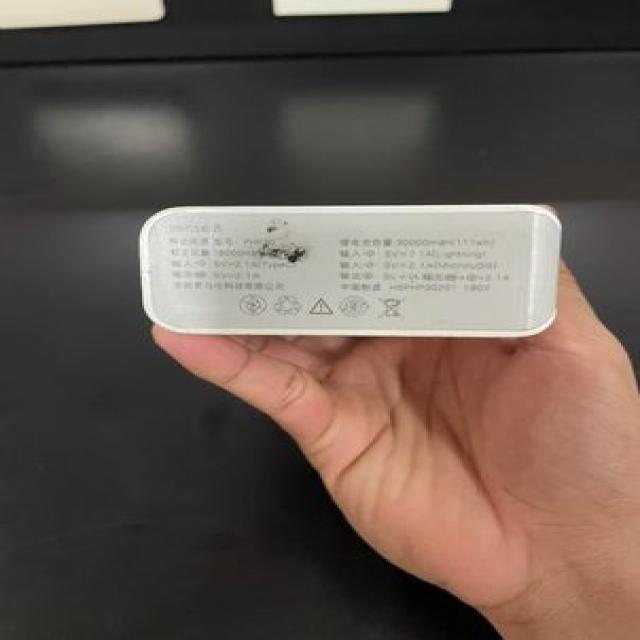portable-charger: (129, 195, 566, 355)
